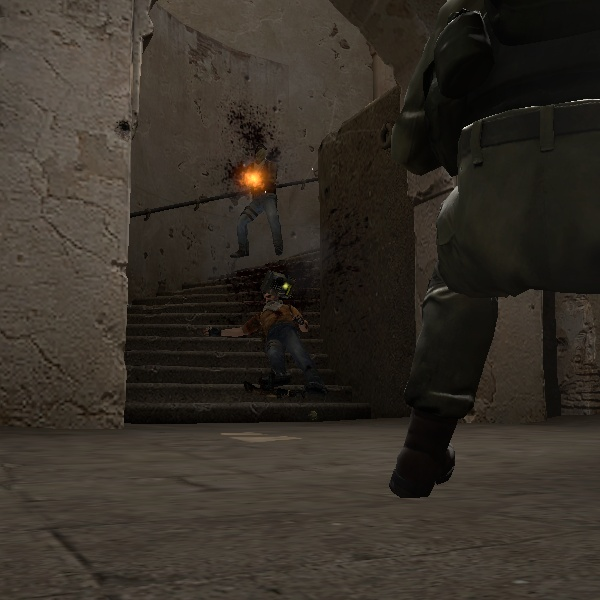ct_body: (396, 2, 600, 491)
t_body: (251, 291, 309, 382), (234, 144, 281, 255)
t_head: (254, 144, 268, 165), (262, 291, 280, 306)
